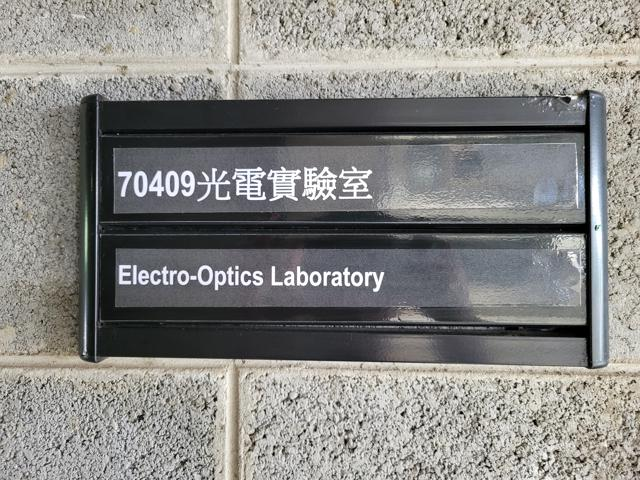doorplate: (71, 78, 617, 376)
